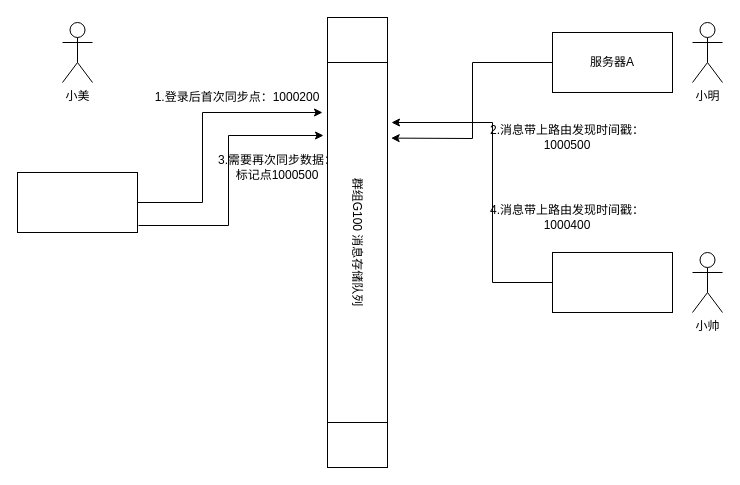
This 740x485 diagram has some shape labels left out. Each missing label, with the centre of its shape:
"服务器B" belongs at [77,202].
"服务器C" belongs at [612,282].
